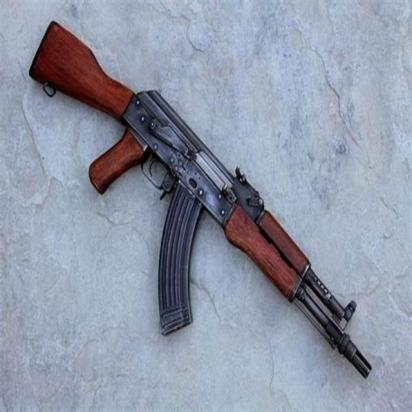Gun: (28, 22, 370, 380)
